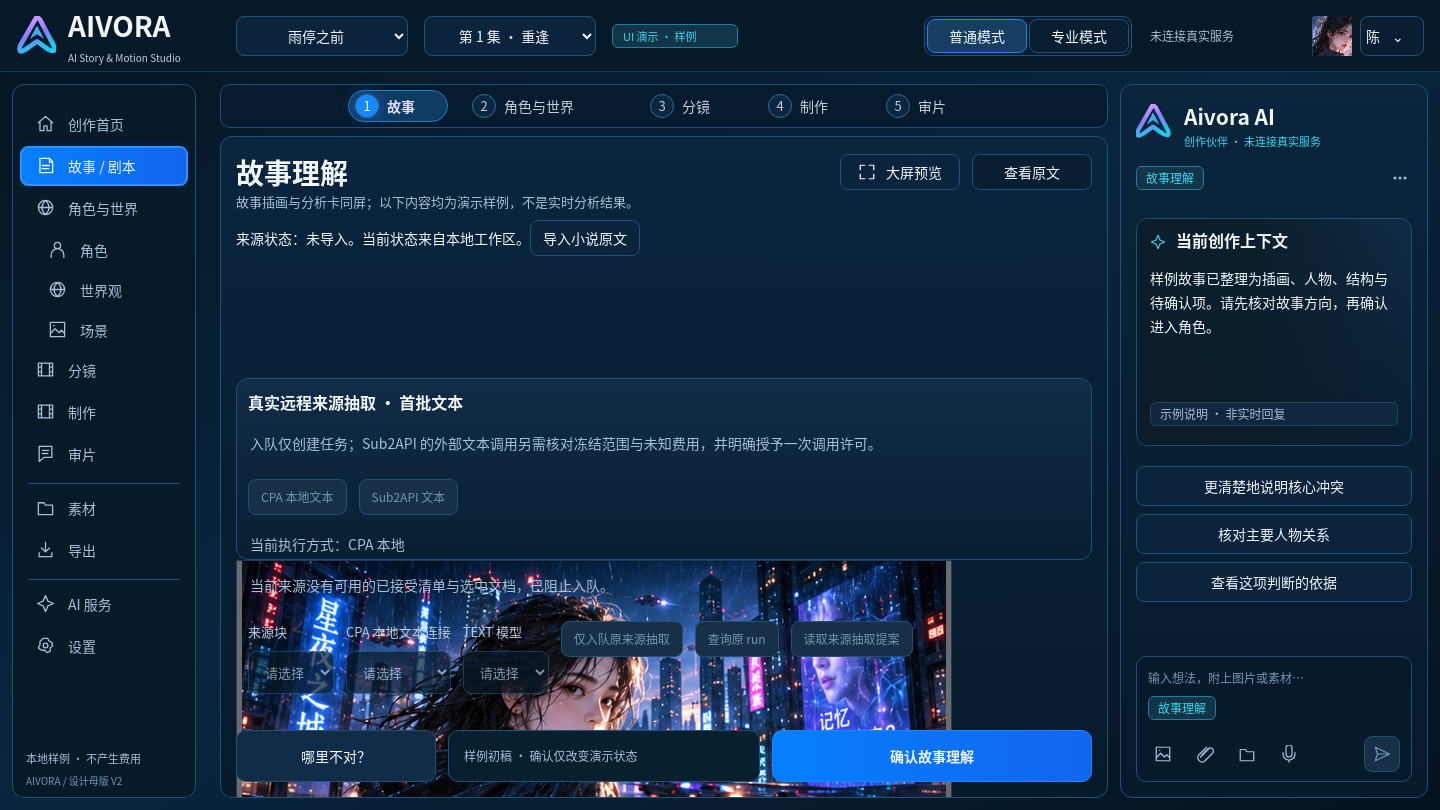
existing source remains readable from the top-level story page
Click the button "查看原文". click: [1032, 172]
box: [972, 154, 1092, 190]
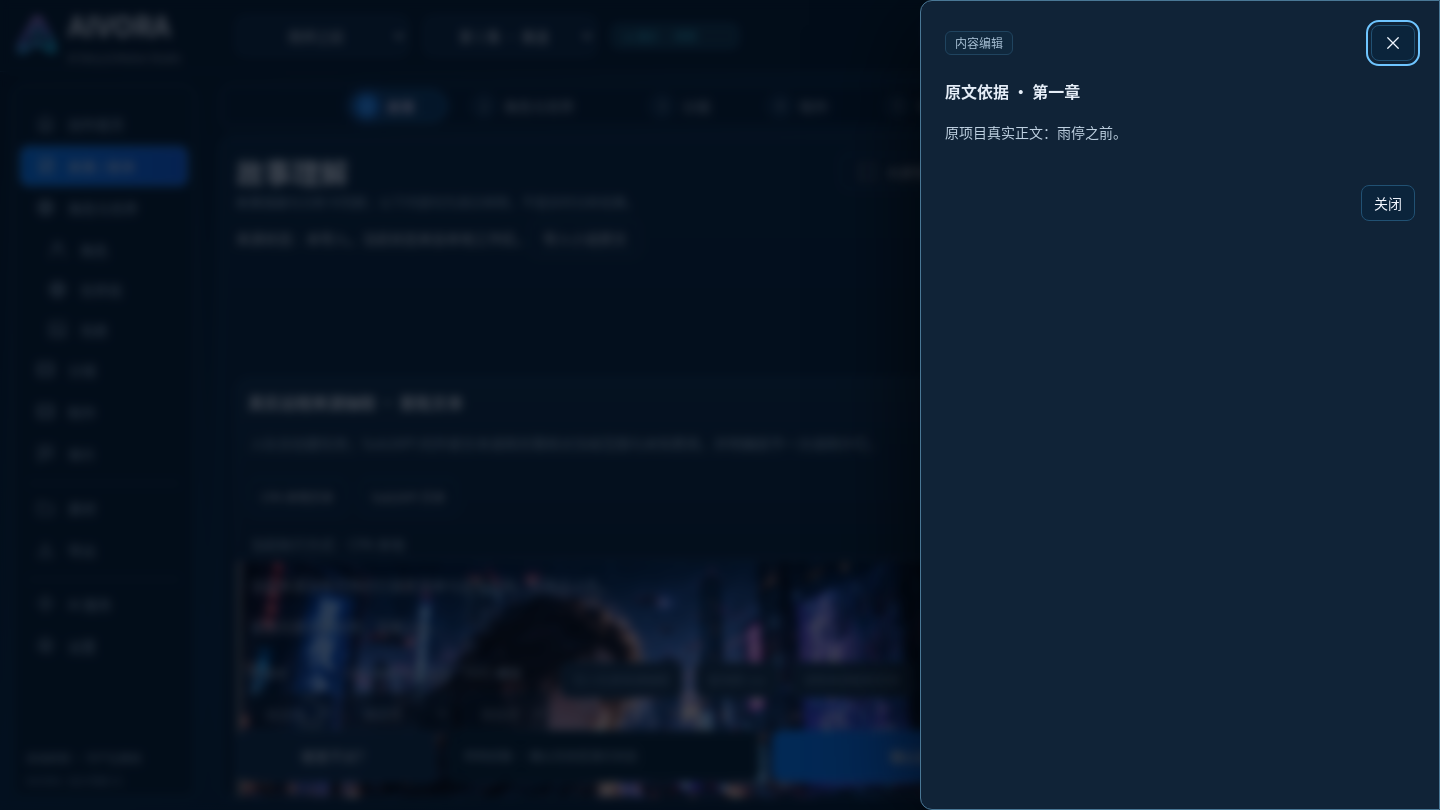
Result: the text "原项目真实正文：雨停之前。" is shown at [945, 122, 1127, 142]
